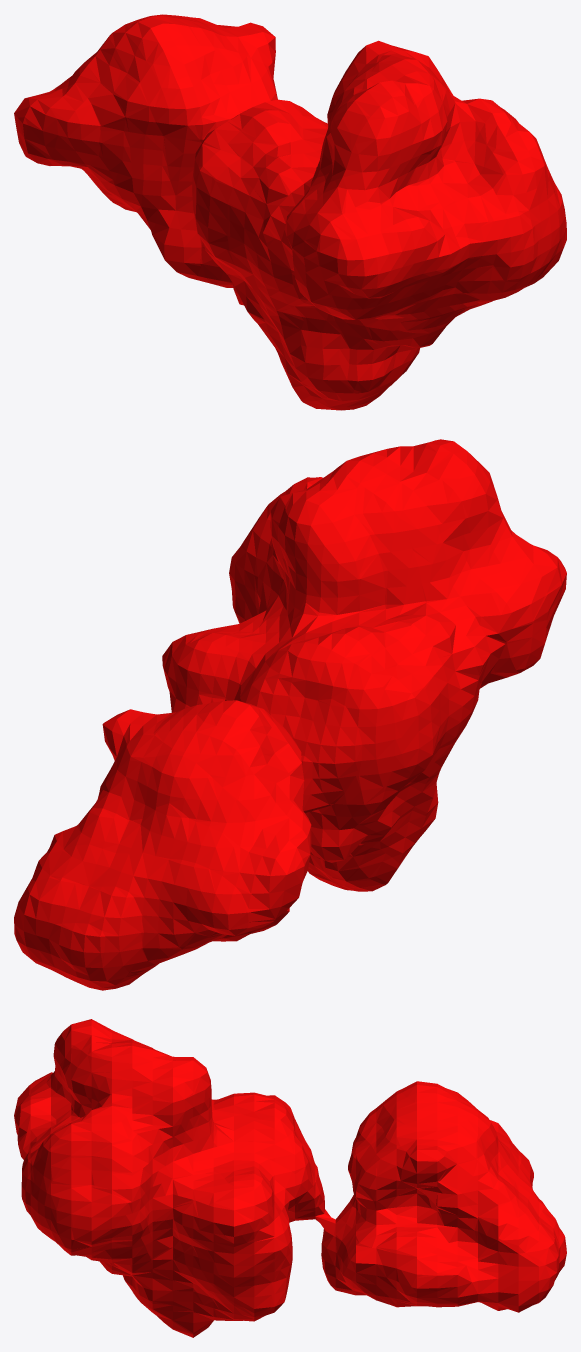
The model's file is yiiM_coarse.dae.
3 views of the same model, one above another, from view 1: azimuth 30°, elevation 25°; view 2: azimuth 150°, elevation 25°; view 3: azimuth 270°, elevation 25° (orthographic). The views are drawn at different scales.
Parts seen in each view (by area): view 1: yiiM; view 2: yiiM; view 3: yiiM.
Boxes of the visible parts, x1=… form: yiiM: x1=14, y1=14, x2=566, y2=410; yiiM: x1=14, y1=439, x2=566, y2=990; yiiM: x1=14, y1=1019, x2=566, y2=1337.
Size of the model in its own units: 58.53 by 70.88 by 118.
